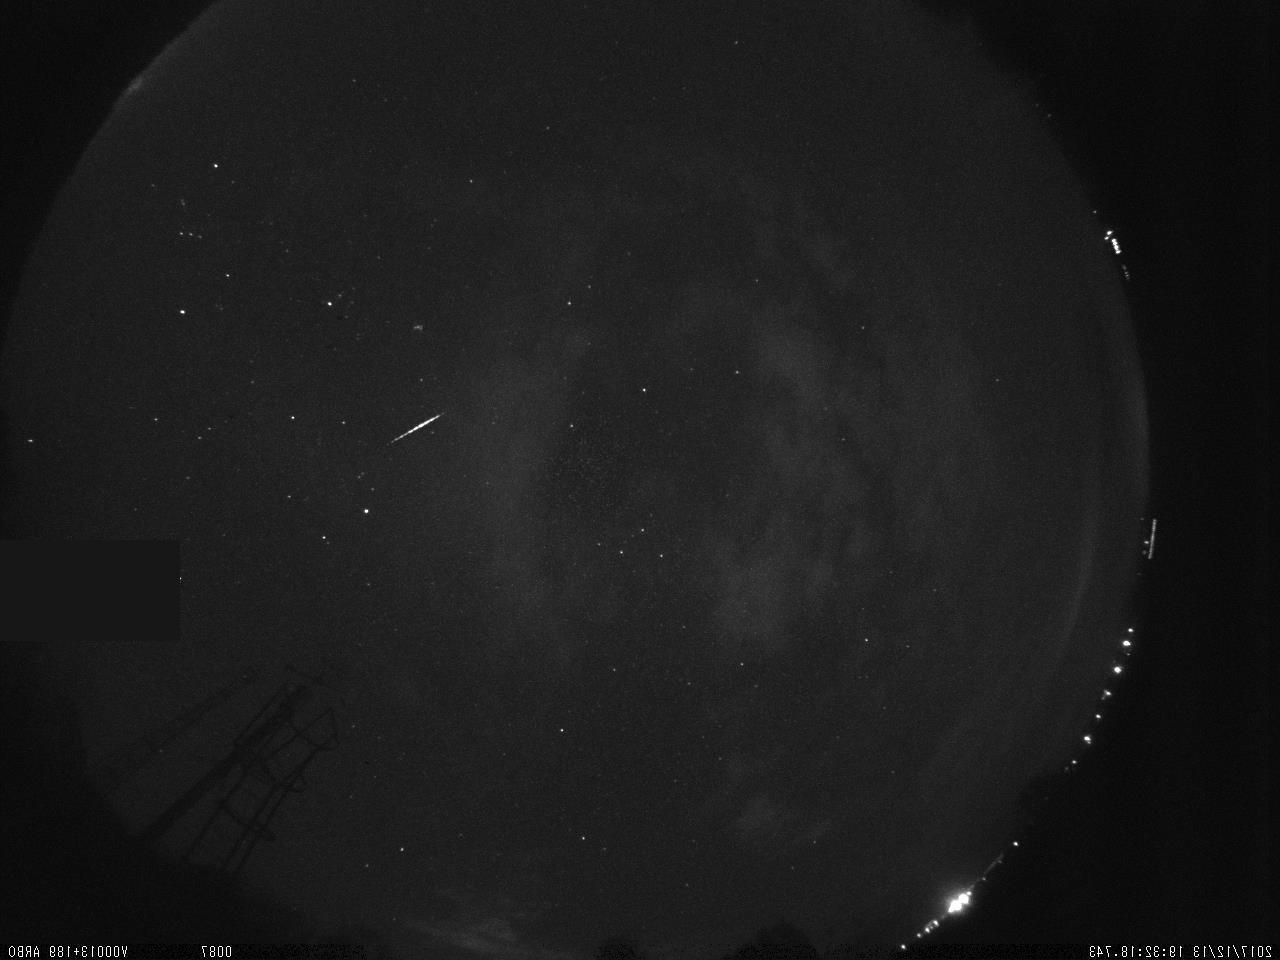meteor: (372, 407, 461, 454)
